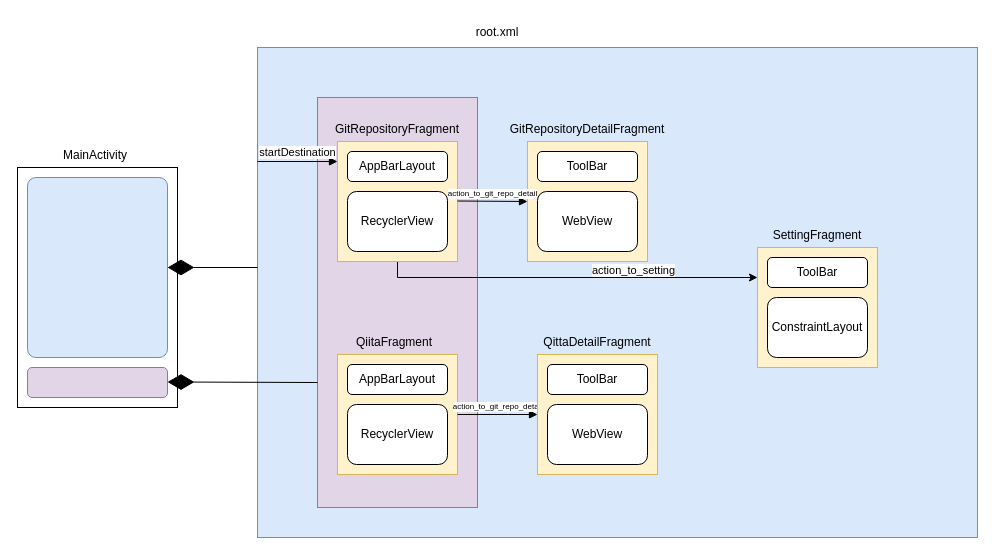
Some shapes in this 995 by 555 pixel diagram are drawn without their labels. The centre of each missing label's shape, as x and y in pixels:
BottomNavigationView: the point at 97,382
FragmentContainerView: the point at 97,267
